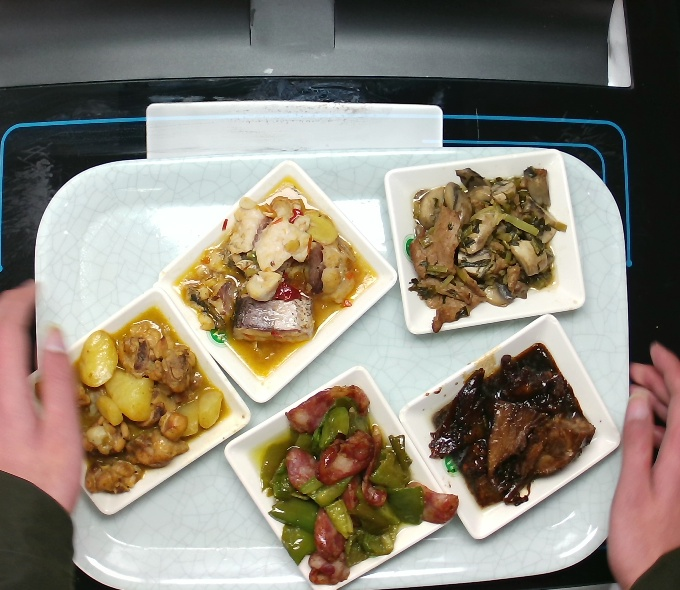wcq-JiangZhiYa: (428, 341, 597, 511)
wcq-MoGuRouPian: (403, 161, 572, 337)
wcq-QingJiaoXiangChang: (255, 381, 462, 584)
wcq-SuanCaiYu: (176, 177, 376, 384)
wcq-TuDouJiKuai: (78, 311, 226, 498)
